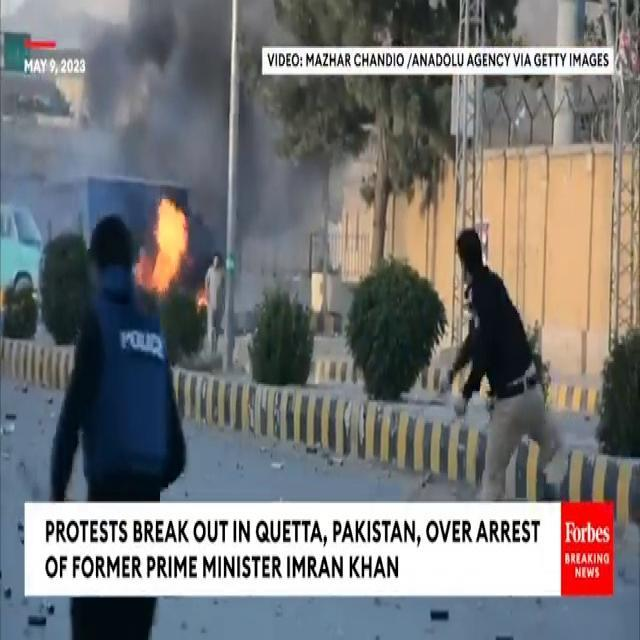Fire: (143, 190, 191, 299)
Smoke: (94, 1, 297, 241)
